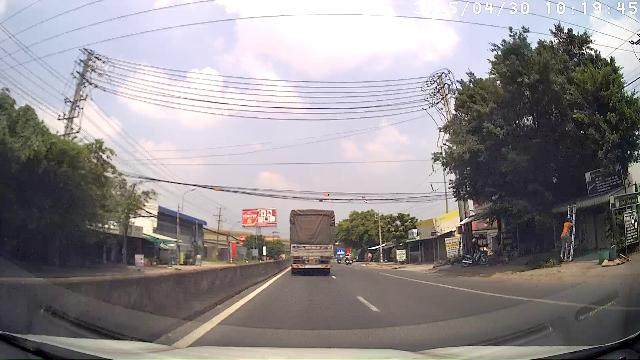420-bat-dau-khu-dong-dan-cu: (336, 248, 345, 254)
